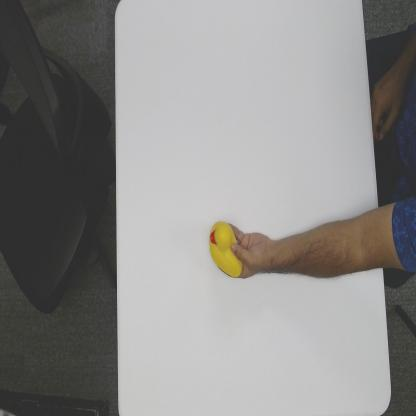Arm: (271, 205, 382, 281)
Duck: (210, 219, 244, 279)
Hand: (229, 221, 270, 281)
